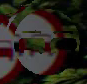No overtake: (0, 8, 28, 81)
